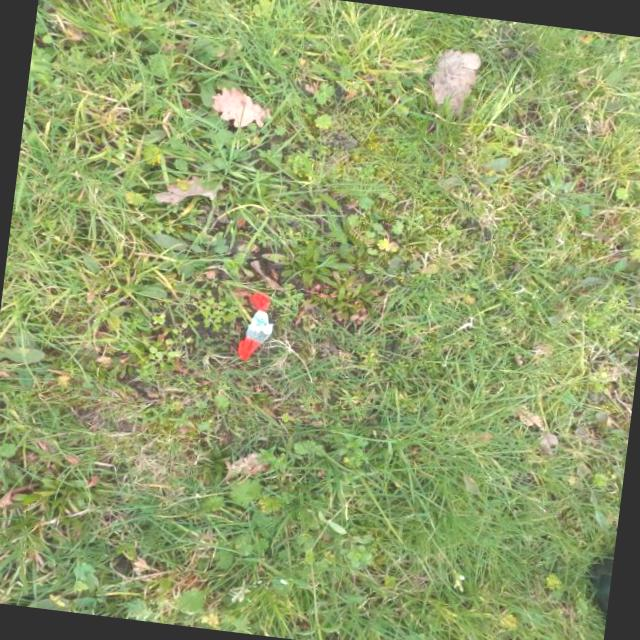Plastic: (235, 288, 277, 364)
